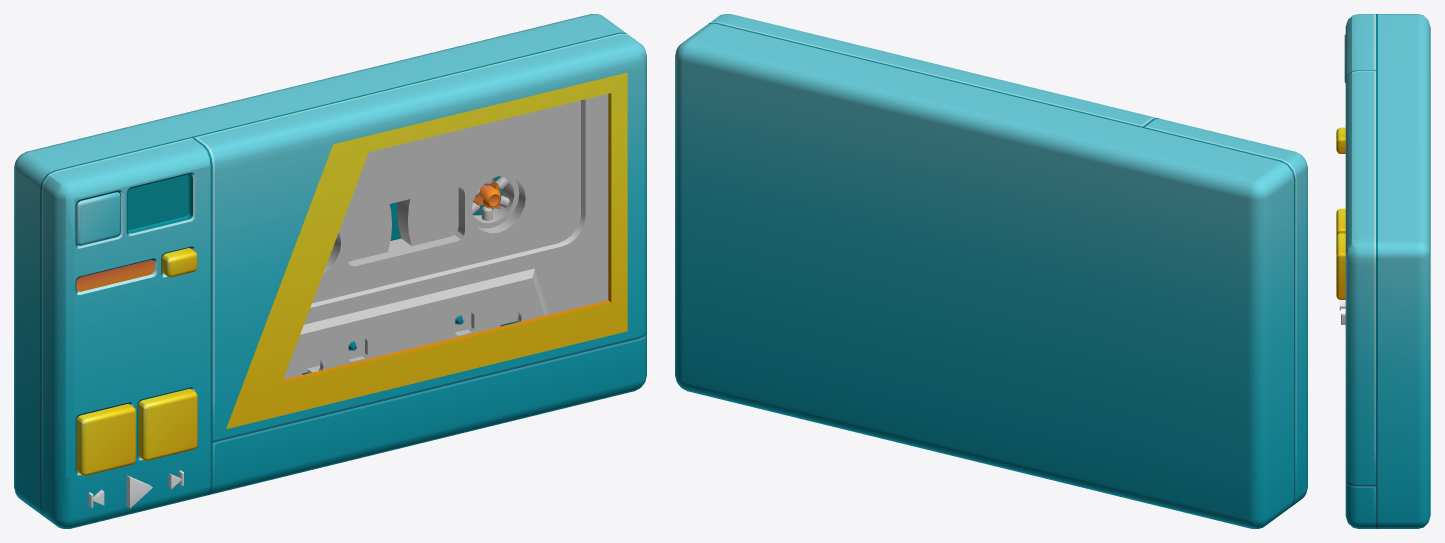
File: CassettePlayer(2).fbx
3 renders of one model, left to right at view 1: azimuth 30°, elevation 25°; view 2: azimuth 150°, elevation 25°; view 3: azimuth 270°, elevation 25°, orthographic. The views are drawn at different scales.
Visible parts, largest first — view 1: Walkman_Base, Walkman_Lid, Cassette, Cassette_Tape_2, Button_Isolate, Button_Instrument, Cassette_Tape_1, Button_Settings, Button_Eject; view 2: Walkman_Base, Walkman_Lid; view 3: Walkman_Base, Walkman_Lid, Button_Isolate, Button_Eject, Button_Instrument.
Boxes of the visible parts, box(x1,y1,x2,y2) form: Walkman_Base: box(14, 14, 646, 528); Walkman_Lid: box(194, 33, 646, 440); Cassette: box(283, 94, 608, 379); Cassette_Tape_2: box(397, 175, 519, 245); Button_Isolate: box(138, 389, 197, 460); Button_Instrument: box(76, 404, 135, 475); Cassette_Tape_1: box(332, 204, 391, 261); Button_Settings: box(76, 192, 120, 245); Button_Eject: box(161, 248, 197, 277); Walkman_Base: box(675, 22, 1307, 528); Walkman_Lid: box(710, 14, 1156, 126); Walkman_Base: box(1345, 14, 1430, 528); Walkman_Lid: box(1345, 70, 1375, 484); Button_Isolate: box(1336, 233, 1345, 299); Button_Eject: box(1336, 127, 1345, 153); Button_Instrument: box(1336, 208, 1345, 236).
Size of the model in its own units: 14.59 by 8.21 by 2.44.
